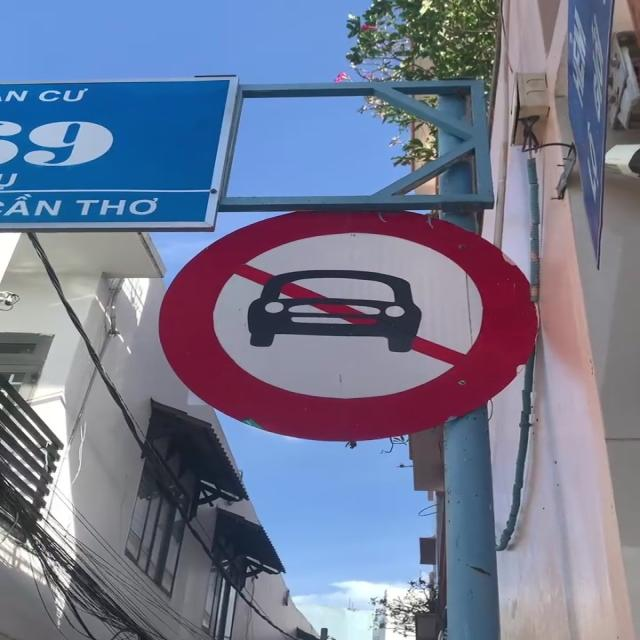Cam_O_To: (157, 204, 546, 446)
